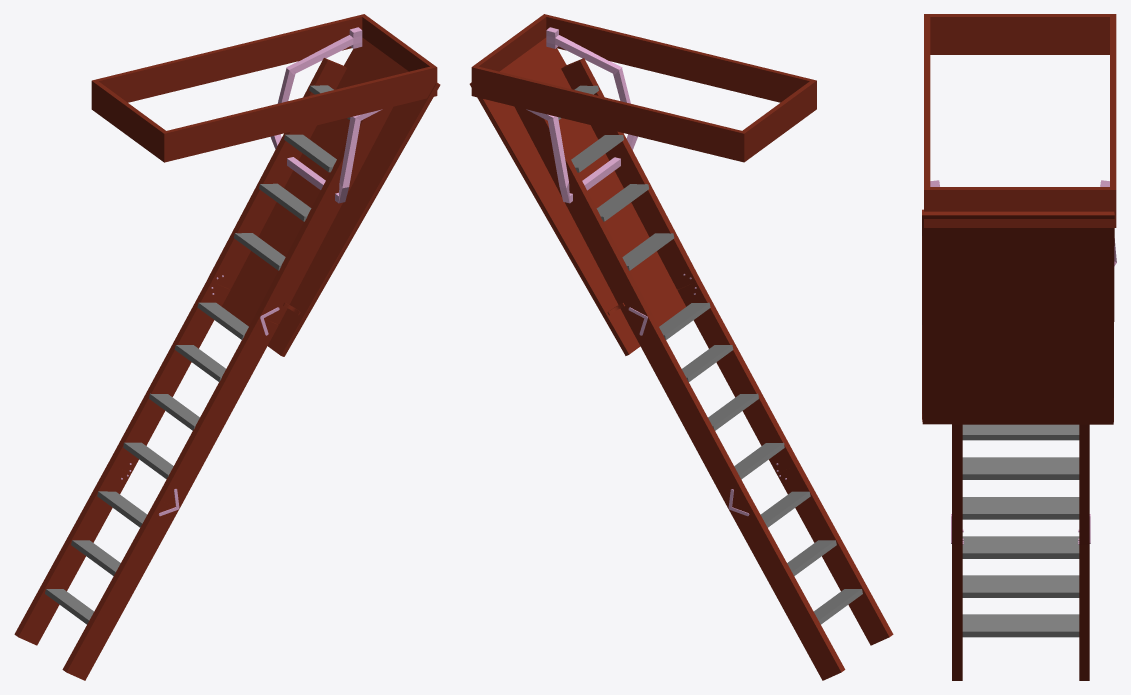
The model's file is Miller's Trap Door.fbx.
3 renders of one model, left to right at view 1: azimuth 30°, elevation 25°; view 2: azimuth 150°, elevation 25°; view 3: azimuth 270°, elevation 25°, orthographic. The views are drawn at different scales.
Parts seen in each view (by area): view 1: Box014, Box018, Box001, Box013, Box017, Box011, Box010, Box009, Box008, Box007, Box005, Box006 (+3 smaller); view 2: Box014, Box018, Box001, Box013, Box017, Box011, Box010, Box009, Box007, Box008, Box006, Box005 (+3 smaller); view 3: Box014, Box018, Box013, Box002, Box001, Box006, Box005, Box003, Box004, Box007.
Part boxes in pixels (box(x1,y1,x2,y2)): Box014: box(208, 37, 440, 356); Box018: box(91, 14, 437, 162); Box001: box(108, 279, 278, 508); Box013: box(14, 463, 179, 680); Box017: box(270, 27, 382, 203); Box011: box(284, 134, 336, 172); Box010: box(259, 183, 311, 221); Box009: box(234, 233, 285, 270); Box008: box(197, 302, 248, 339); Box007: box(174, 345, 225, 382); Box005: box(123, 442, 173, 478); Box006: box(149, 393, 199, 430); Box014: box(469, 37, 699, 355); Box018: box(471, 14, 816, 162); Box001: box(629, 279, 799, 508); Box013: box(728, 463, 893, 680); Box017: box(526, 27, 637, 203); Box011: box(571, 135, 623, 172); Box010: box(596, 184, 648, 221); Box009: box(622, 233, 674, 270); Box007: box(682, 345, 733, 381); Box008: box(659, 302, 710, 339); Box006: box(708, 393, 758, 430); Box005: box(734, 442, 784, 479); Box014: box(922, 209, 1114, 424); Box018: box(924, 14, 1116, 227); Box013: box(951, 541, 1090, 680); Box002: box(962, 614, 1079, 637); Box001: box(951, 424, 1090, 544); Box006: box(962, 457, 1079, 479); Box005: box(962, 497, 1079, 519); Box003: box(962, 575, 1079, 597); Box004: box(962, 536, 1079, 558); Box007: box(962, 424, 1079, 440).
Bounding box in the file's own units: 160 × 226 × 56.17.
